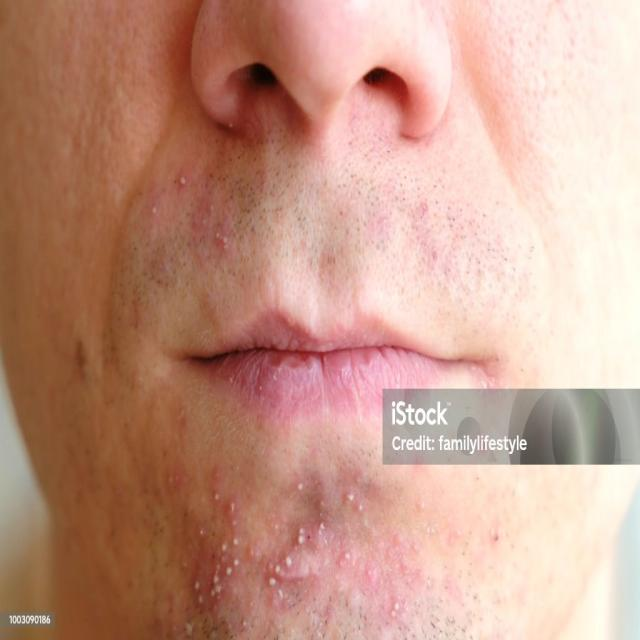whitehead: (174, 468, 421, 639), (145, 165, 243, 263)
